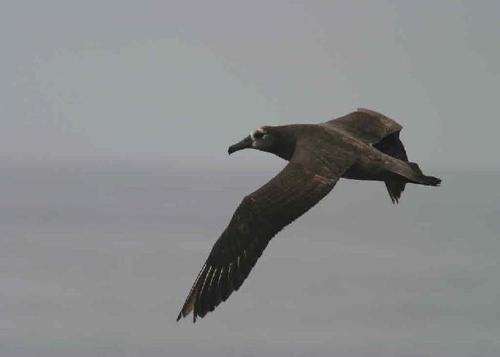bird: (176, 92, 440, 323)
